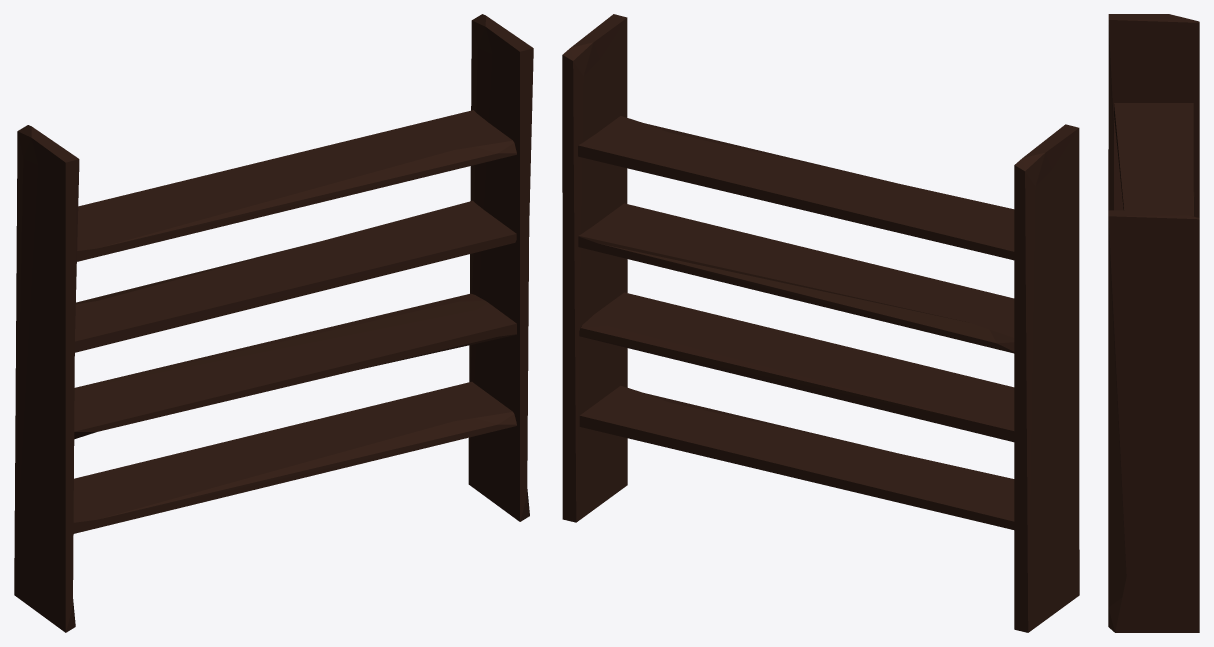
Rendered from SM_shelf_wooden_01.fbx.
3 renders of one model, left to right at view 1: azimuth 30°, elevation 25°; view 2: azimuth 150°, elevation 25°; view 3: azimuth 270°, elevation 25°, orthographic. The views are drawn at different scales.
Parts seen in each view (by area): view 1: Object520; view 2: Object520; view 3: Object520.
Part boxes in pixels (box(x1,y1,x2,y2)): Object520: box(14, 14, 533, 632); Object520: box(562, 14, 1079, 632); Object520: box(1108, 14, 1199, 632).
Bounding box in the file's own units: 102 × 98.35 × 19.54.
